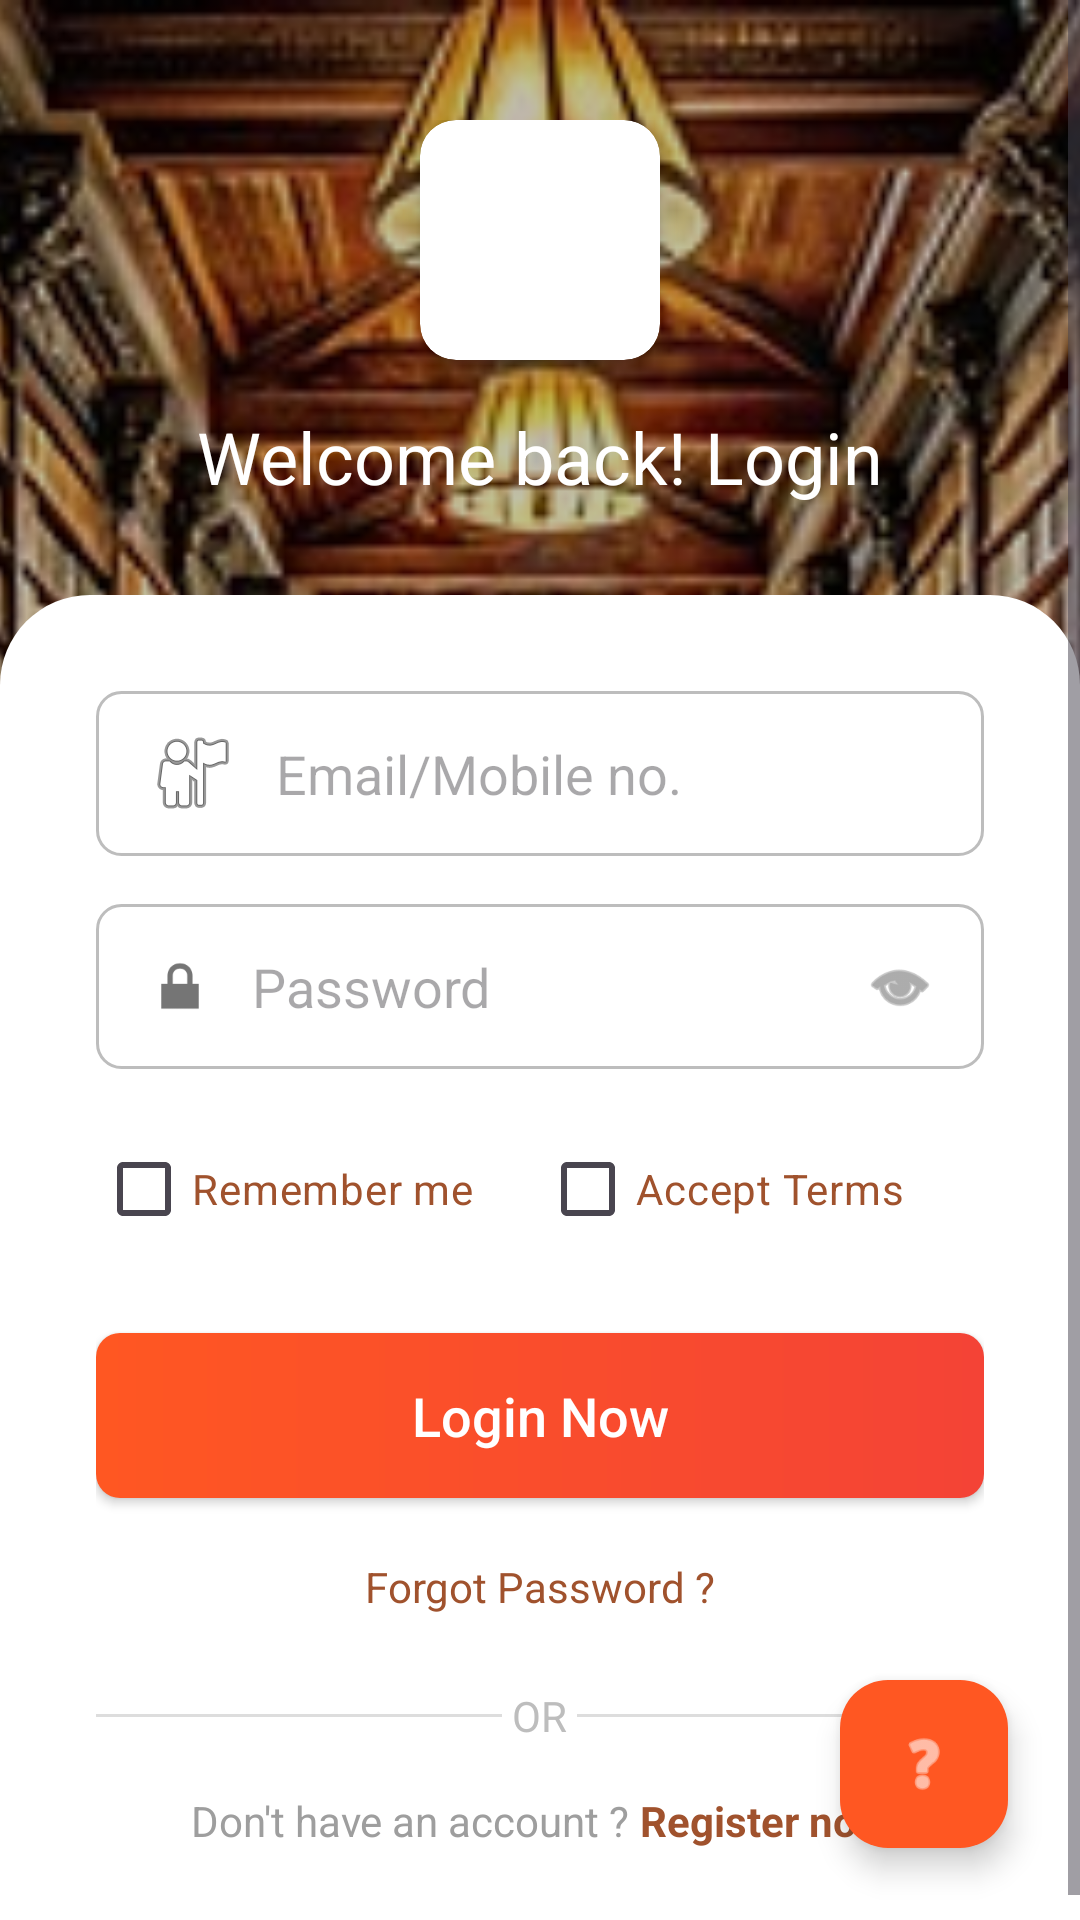

Point at icon controls on the screen. Image size 1080 x 1920, points as [x,y].
Help: [924,1764]
